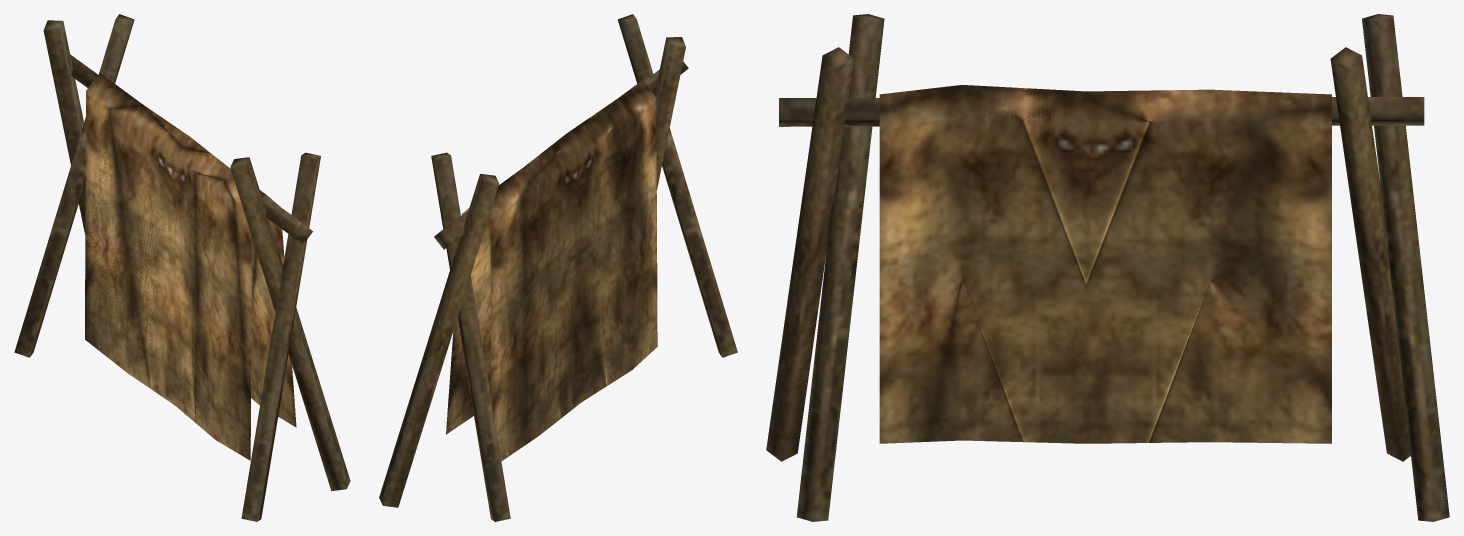
The model's file is b_general_obj_02.fbx.
3 views of the same model, side by side, from view 1: azimuth 30°, elevation 25°; view 2: azimuth 150°, elevation 25°; view 3: azimuth 270°, elevation 25° (orthographic). The views are drawn at different scales.
Visible parts, largest first — view 1: Mesh01; view 2: Mesh01; view 3: Mesh01.
Boxes of the visible parts, bbox=[...] form: Mesh01: bbox=[14, 14, 350, 521]; Mesh01: bbox=[379, 14, 737, 521]; Mesh01: bbox=[766, 14, 1449, 521].
Bounding box in the file's own units: 1 × 2.66 × 3.61.
